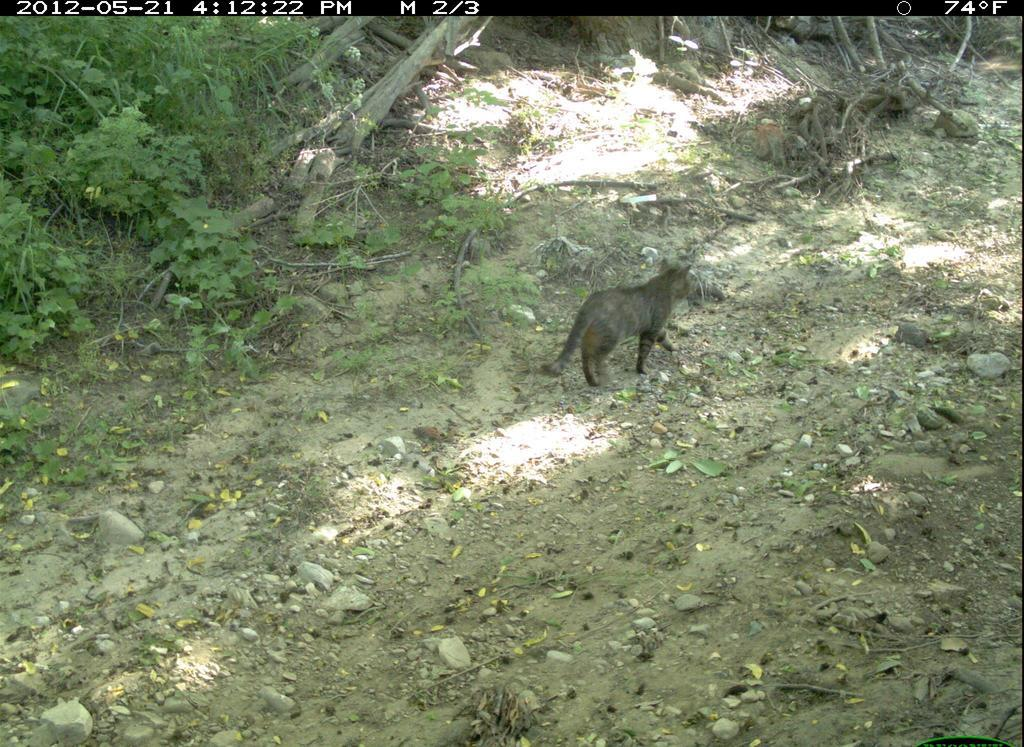cat: (530, 253, 710, 405)
